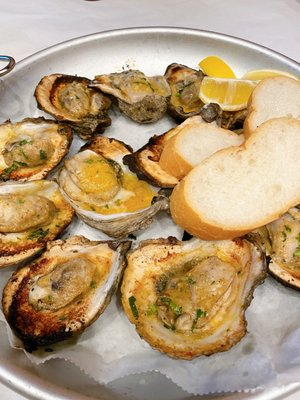soup: (119, 236, 267, 361), (1, 237, 127, 352)
